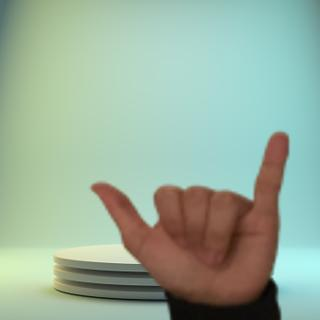HAVE: (80, 122, 296, 307)
